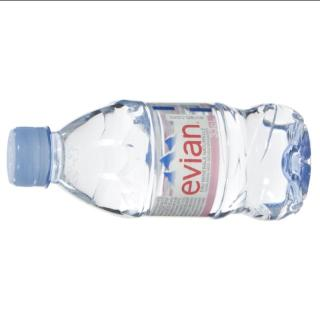Anorganik: (3, 93, 315, 221)
